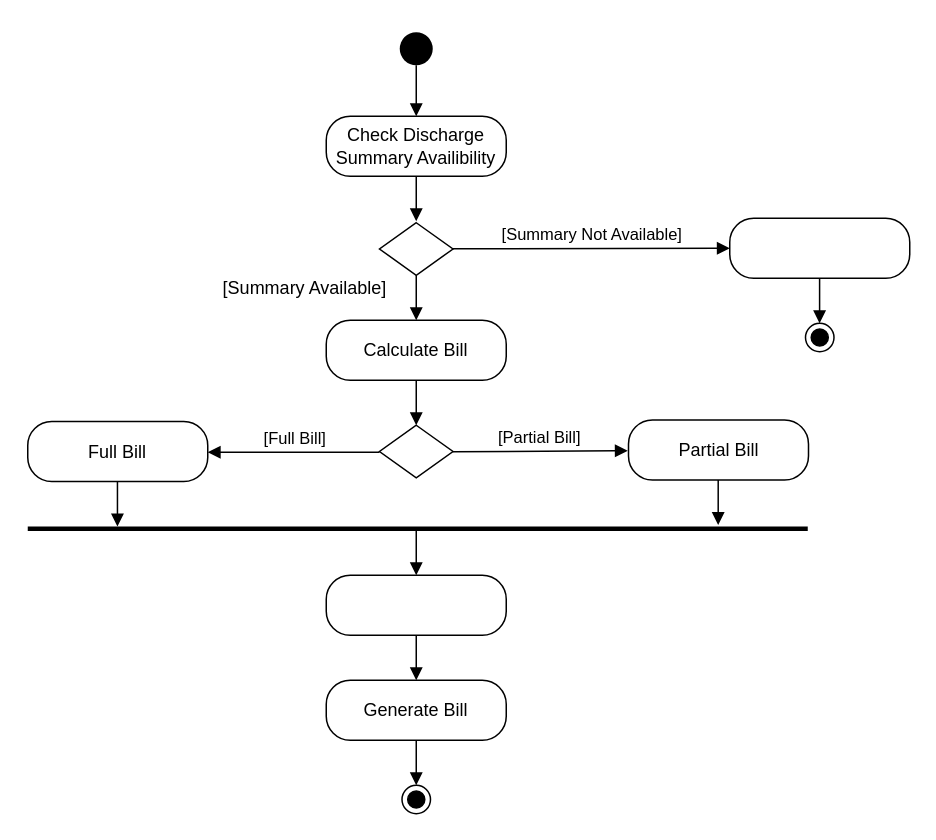
Image size: 936x840. Some labels were removed from this diagram. Here are the shapes that lost their labels. From the top down, the box of each, then its label:
(728, 217, 910, 278): Patient Not Discharged
(325, 574, 506, 635): Take Payment
